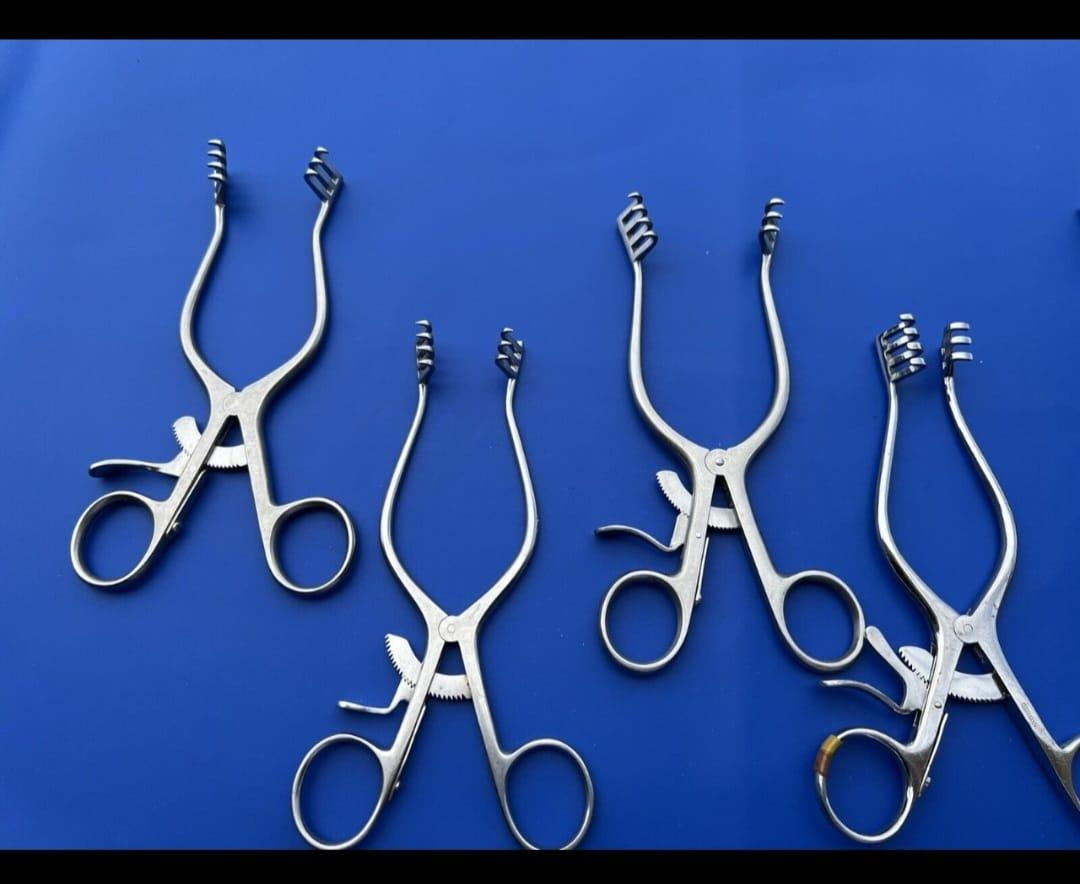Self Retractor: (289, 314, 614, 846), (790, 295, 1079, 865), (588, 173, 875, 674), (64, 125, 365, 598)
